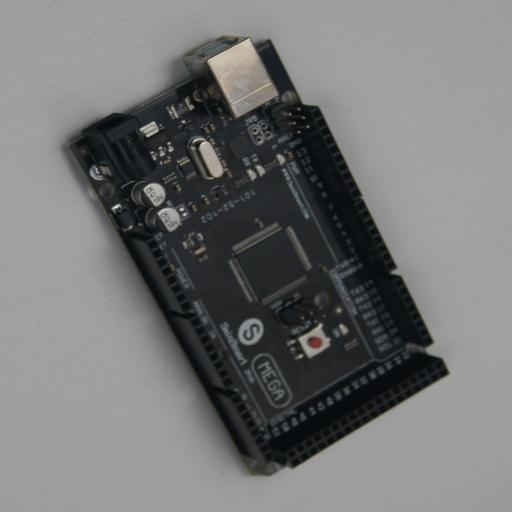Arduino Mega 2560 -Black-: (62, 36, 449, 476)
